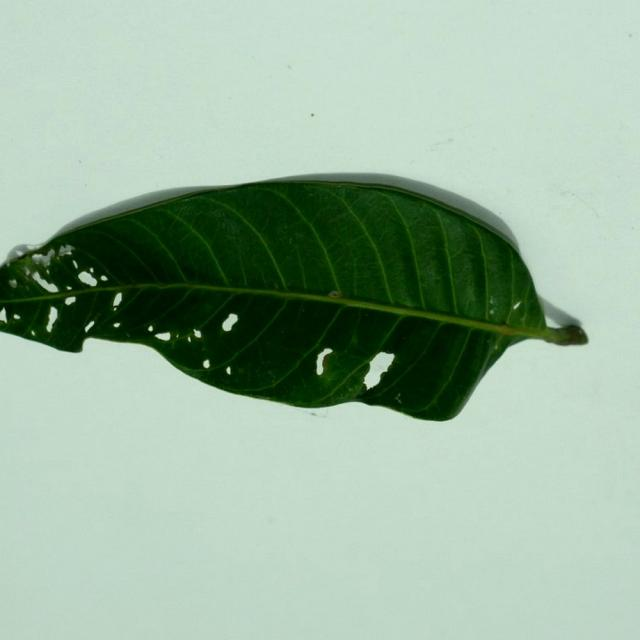Anthracnose: (541, 298, 583, 333), (312, 344, 337, 381), (362, 362, 385, 390), (38, 276, 58, 293), (79, 270, 98, 287), (221, 313, 239, 329), (32, 253, 48, 266), (58, 245, 75, 257), (46, 312, 56, 332), (154, 331, 171, 341), (112, 292, 122, 307), (84, 320, 95, 333), (327, 290, 341, 299), (382, 350, 395, 359), (0, 307, 7, 323), (64, 296, 75, 306), (202, 358, 211, 369), (193, 329, 202, 339), (512, 301, 521, 310), (9, 280, 17, 288), (226, 366, 232, 375), (113, 322, 120, 329)
Mango: (0, 175, 590, 424)
